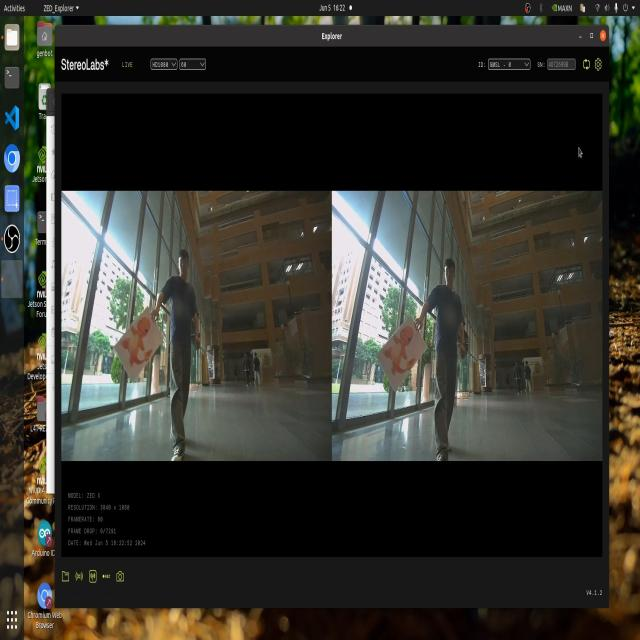red: (121, 318, 162, 378), (383, 319, 423, 379)
